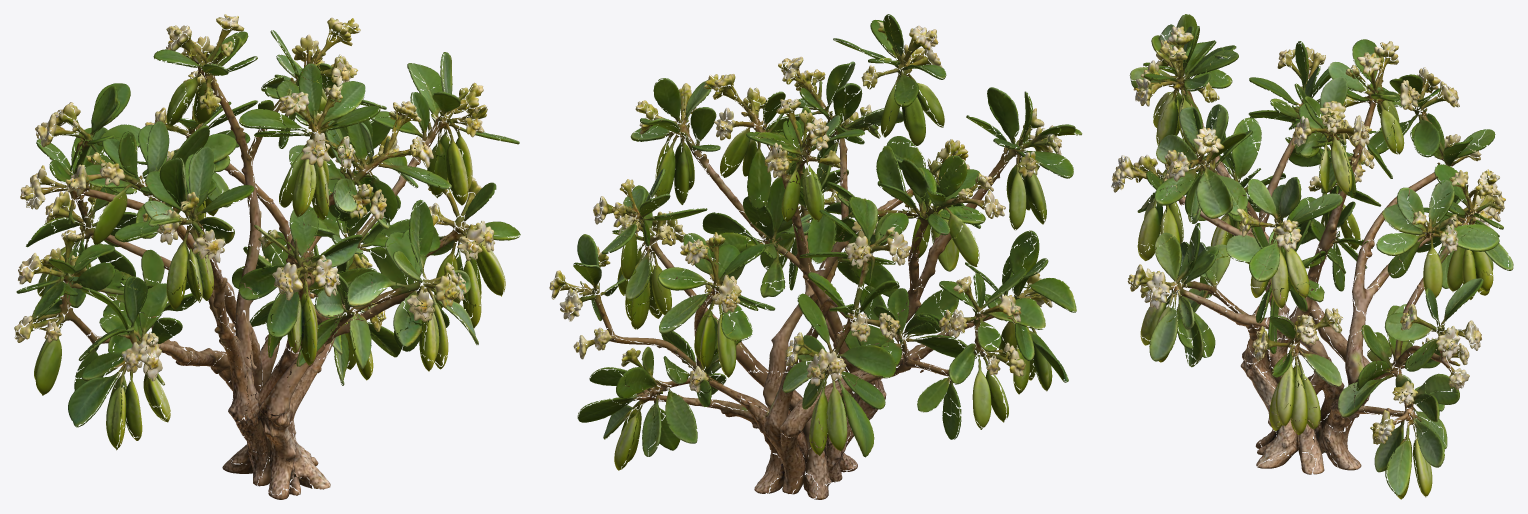
The model's file is salam.glb.
3 renders of one model, left to right at view 1: azimuth 30°, elevation 25°; view 2: azimuth 150°, elevation 25°; view 3: azimuth 270°, elevation 25°, orthographic. The views are drawn at different scales.
Parts seen in each view (by area): view 1: tripo_node_53fb47e6-b550-474c-b72a-08e4e0179018; view 2: tripo_node_53fb47e6-b550-474c-b72a-08e4e0179018; view 3: tripo_node_53fb47e6-b550-474c-b72a-08e4e0179018.
Boxes of the visible parts, bbox=[...] form: tripo_node_53fb47e6-b550-474c-b72a-08e4e0179018: bbox=[14, 14, 520, 499]; tripo_node_53fb47e6-b550-474c-b72a-08e4e0179018: bbox=[549, 14, 1082, 499]; tripo_node_53fb47e6-b550-474c-b72a-08e4e0179018: bbox=[1111, 14, 1513, 499].
Size of the model in its own units: 0.9787 by 0.9073 by 0.7909.
1 material, 1 textured.
